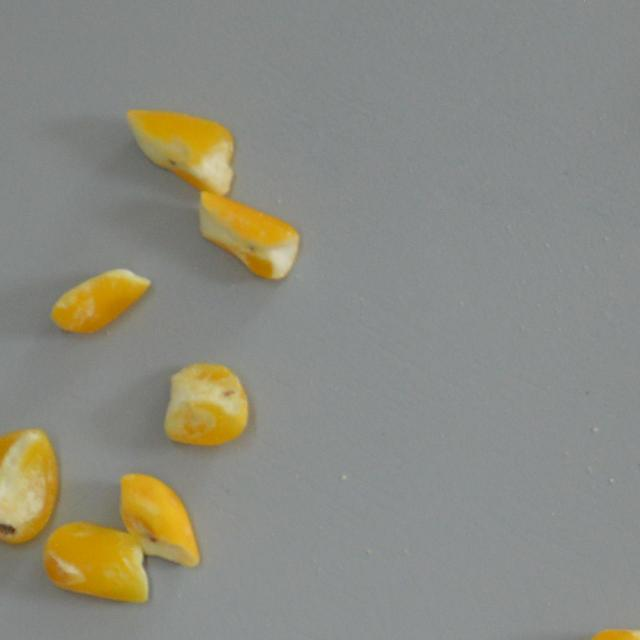dañado: (40, 518, 154, 605), (158, 356, 254, 452), (46, 259, 153, 336), (0, 420, 63, 548)
punto_negro: (124, 106, 238, 198), (196, 190, 302, 284), (574, 619, 640, 640)
